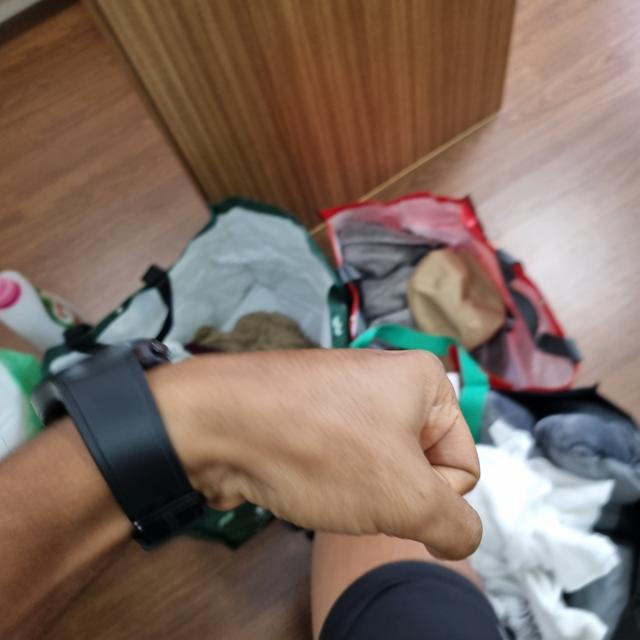Rock: (152, 342, 484, 550)
